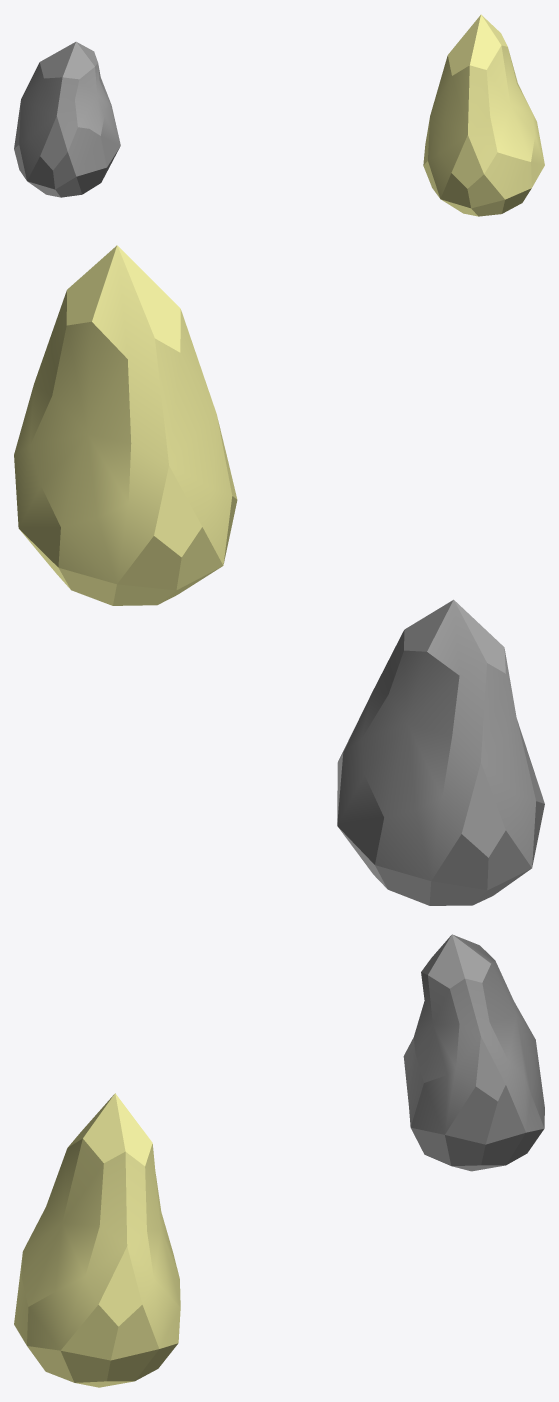
The model's file is flamme.fbx.
3 renders of one model, top to bottom at view 1: azimuth 30°, elevation 25°; view 2: azimuth 150°, elevation 25°; view 3: azimuth 270°, elevation 25°, orthographic. The views are drawn at different scales.
Parts seen in each view (by area): view 1: Flamme4, Flamme; view 2: Flamme4, Flamme; view 3: Flamme4, Flamme.
Boxes of the visible parts, box(x1,y1,x2,y2) form: Flamme4: box(423, 14, 544, 216); Flamme: box(14, 41, 120, 197); Flamme4: box(14, 245, 237, 605); Flamme: box(337, 599, 544, 905); Flamme4: box(14, 1093, 180, 1387); Flamme: box(403, 934, 544, 1171).
Bounding box in the file's own units: 5.43 × 2.56 × 4.24.
